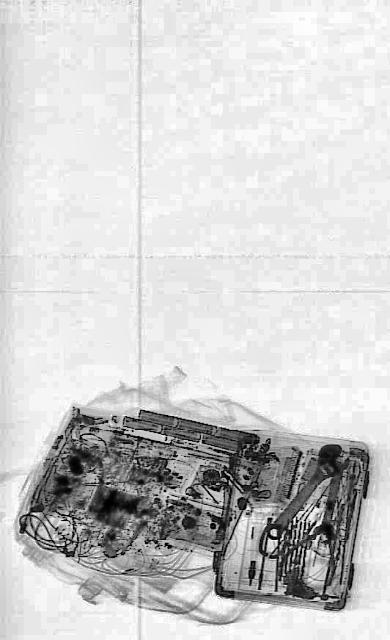Wrench: (261, 431, 351, 552), (312, 449, 352, 551)
